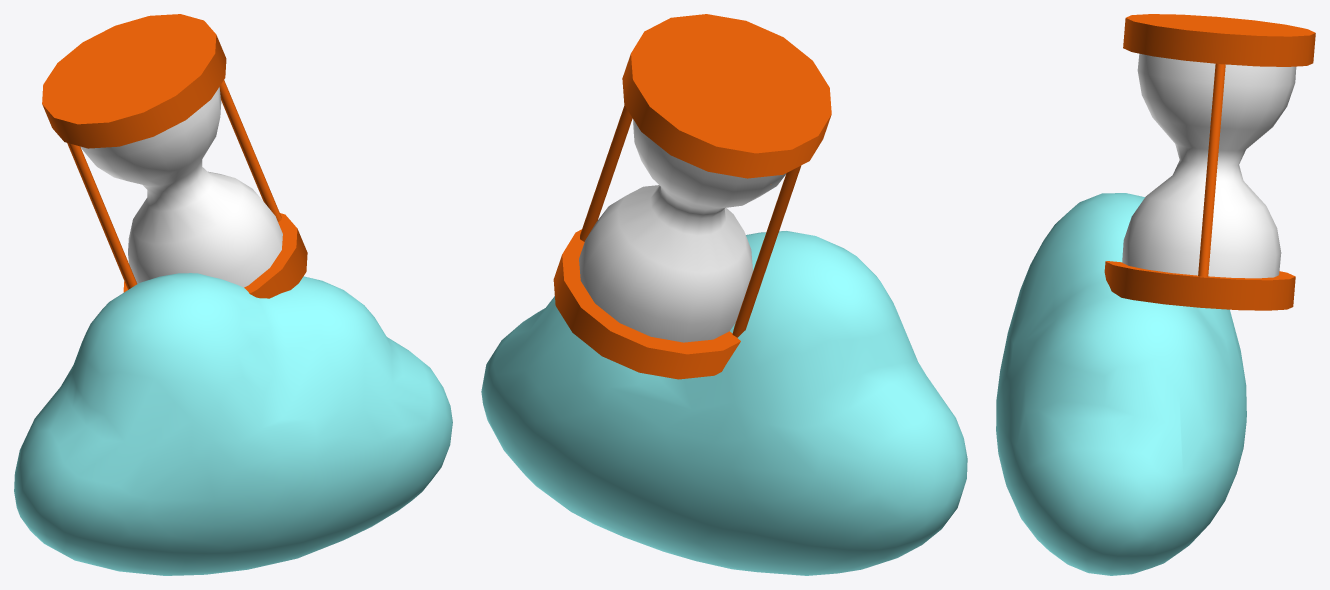
The model's file is Item_Reduce low.FBX.
3 renders of one model, left to right at view 1: azimuth 30°, elevation 25°; view 2: azimuth 150°, elevation 25°; view 3: azimuth 270°, elevation 25°, orthographic. The views are drawn at different scales.
Visible parts, largest first — view 1: Item_Reduce low, Item_Reduce low object; view 2: Item_Reduce low, Item_Reduce low object; view 3: Item_Reduce low, Item_Reduce low object.
Boxes of the visible parts, bbox=[...] form: Item_Reduce low: bbox=[14, 273, 452, 575]; Item_Reduce low object: bbox=[42, 14, 307, 298]; Item_Reduce low: bbox=[481, 231, 967, 575]; Item_Reduce low object: bbox=[553, 14, 831, 379]; Item_Reduce low: bbox=[996, 193, 1246, 575]; Item_Reduce low object: bbox=[1104, 14, 1315, 310].
Size of the model in its own units: 114 by 130 by 74.09.
